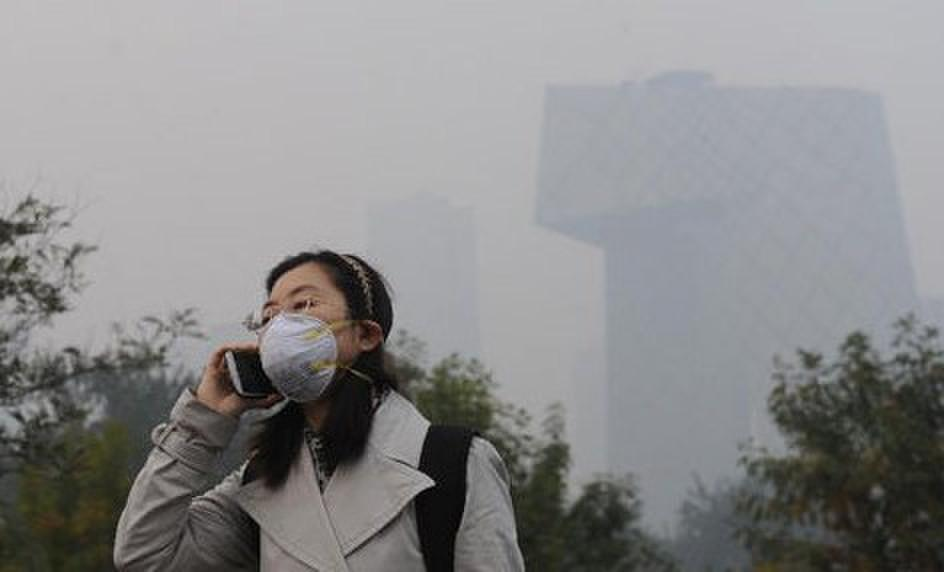person: (112, 249, 525, 572)
